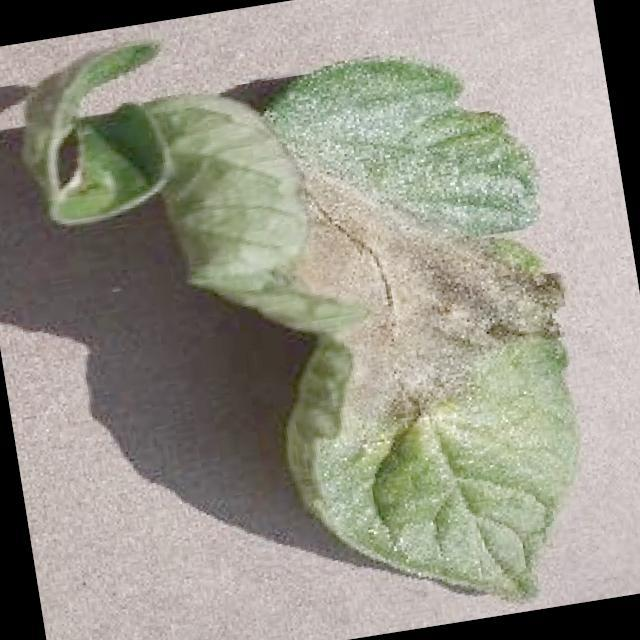Tomato late blight leaf: (149, 27, 615, 640)
